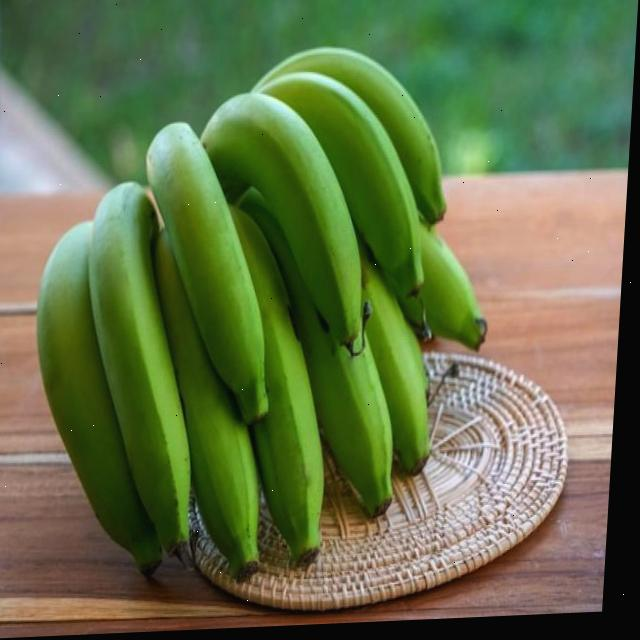banana: (14, 26, 509, 599)
